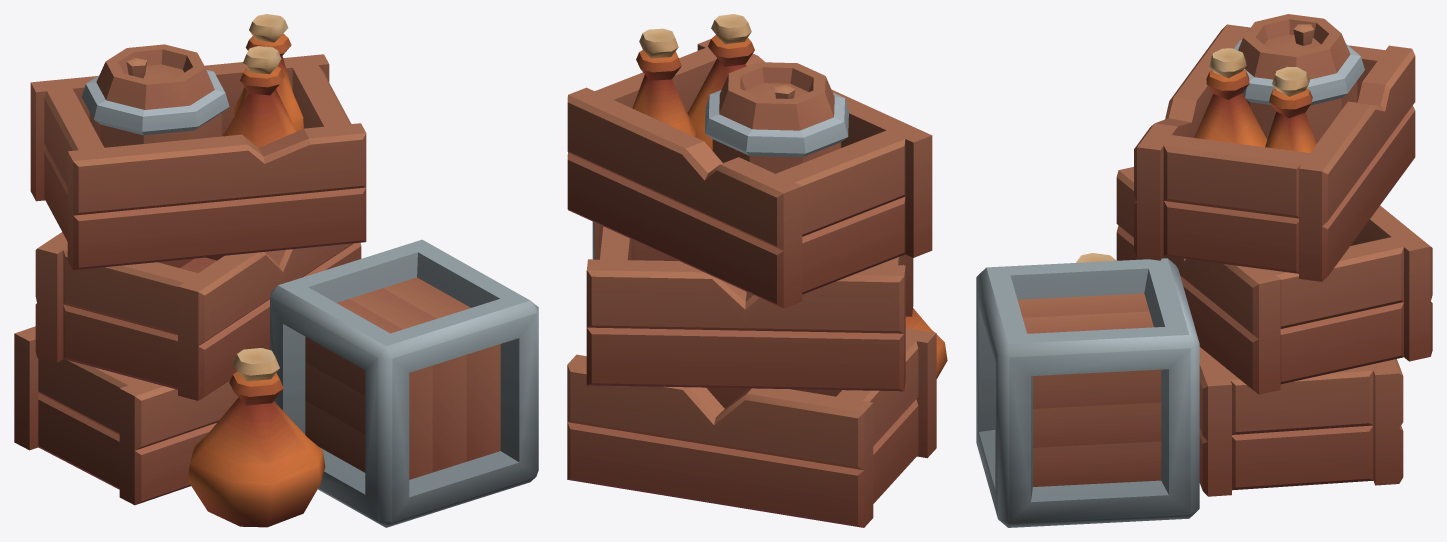
Rendered from crates_stacked.glb.
3 views of the same model, side by side, from view 1: azimuth 30°, elevation 25°; view 2: azimuth 150°, elevation 25°; view 3: azimuth 270°, elevation 25° (orthographic). The views are drawn at different scales.
Visible parts, largest first — view 1: crates_stacked; view 2: crates_stacked; view 3: crates_stacked.
Boxes of the visible parts, x1,y1,x2,y2 form: crates_stacked: (14, 14, 538, 527); crates_stacked: (567, 14, 947, 527); crates_stacked: (976, 14, 1432, 527).
Size of the model in its own units: 2.09 by 2.14 by 2.25.
Materials: 1 (1 with a texture image).
